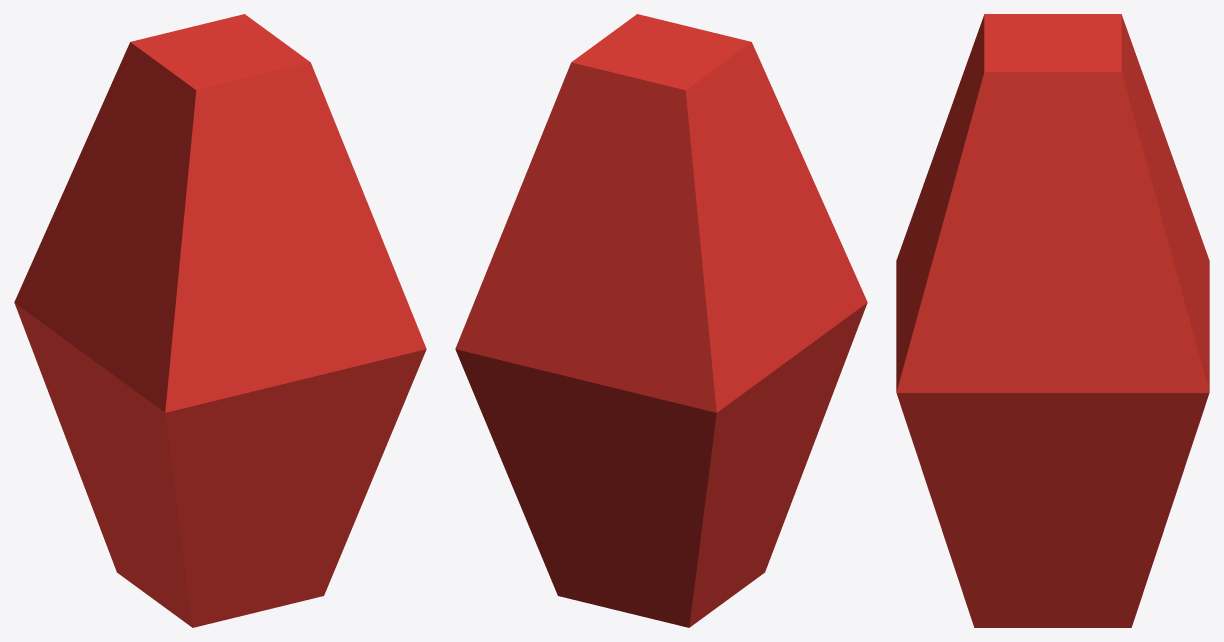
File: AsteroidRed.fbx
The picture shows the model from 3 angles, left to right: view 1: azimuth 30°, elevation 25°; view 2: azimuth 150°, elevation 25°; view 3: azimuth 270°, elevation 25°; orthographic projection. The views are drawn at different scales.
Parts seen in each view (by area): view 1: Cube; view 2: Cube; view 3: Cube.
Boxes of the visible parts, left/top/right/bottom form: Cube: left=14, top=14, right=426, bottom=627; Cube: left=455, top=14, right=867, bottom=627; Cube: left=896, top=14, right=1209, bottom=627.
Bounding box in the file's own units: 200 × 389 × 200.
